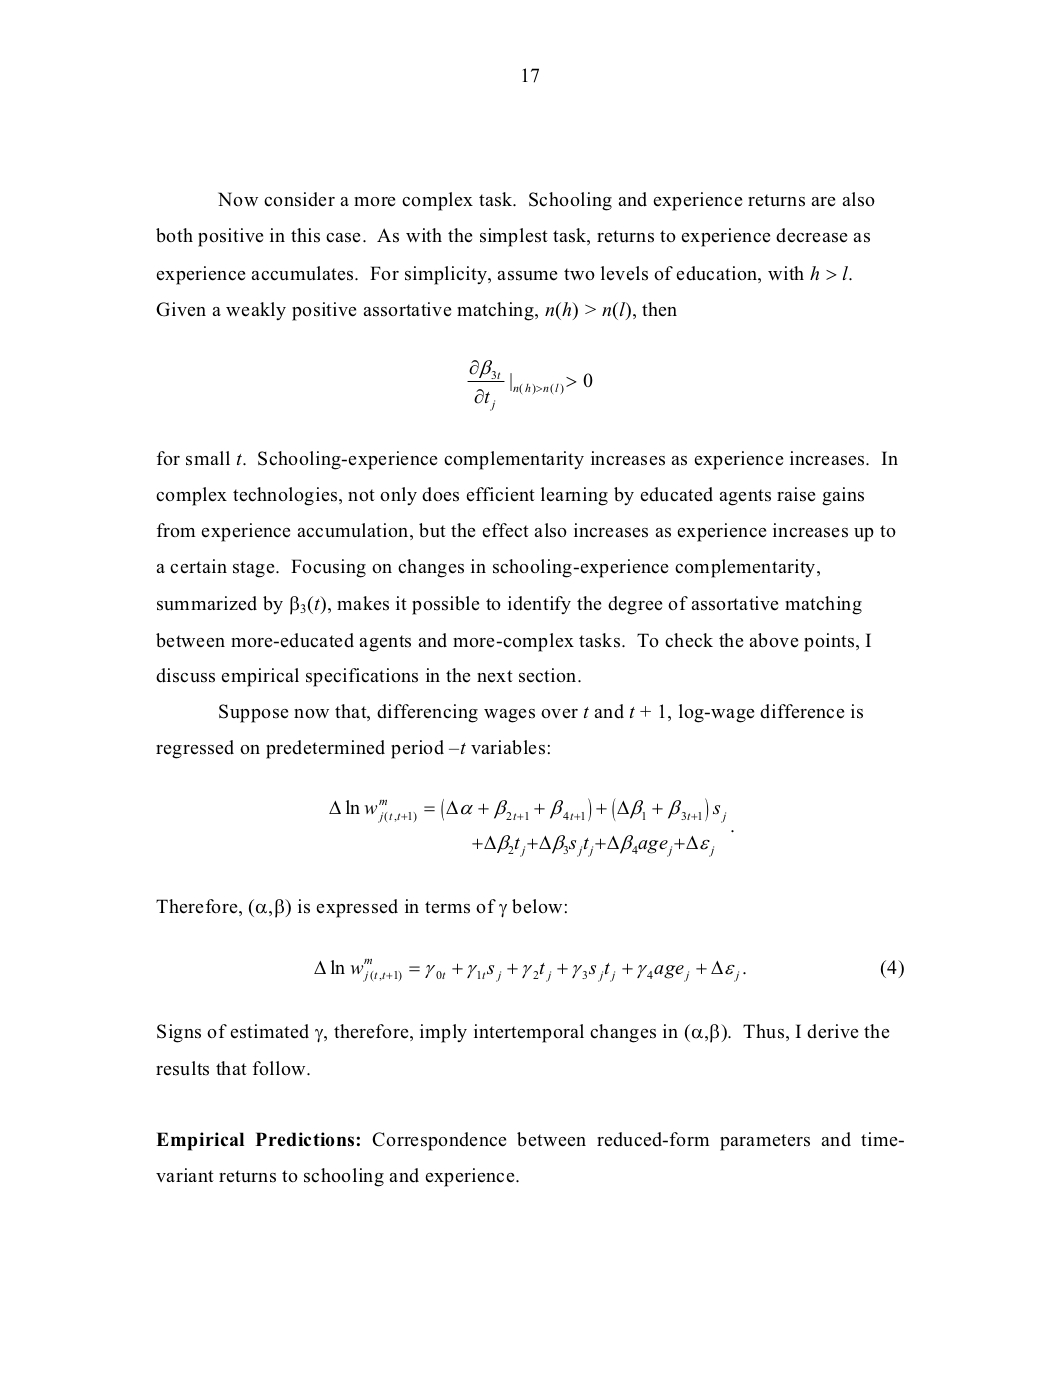formula: (314, 957, 903, 982), (329, 797, 726, 822), (467, 359, 592, 411), (473, 834, 714, 857)
